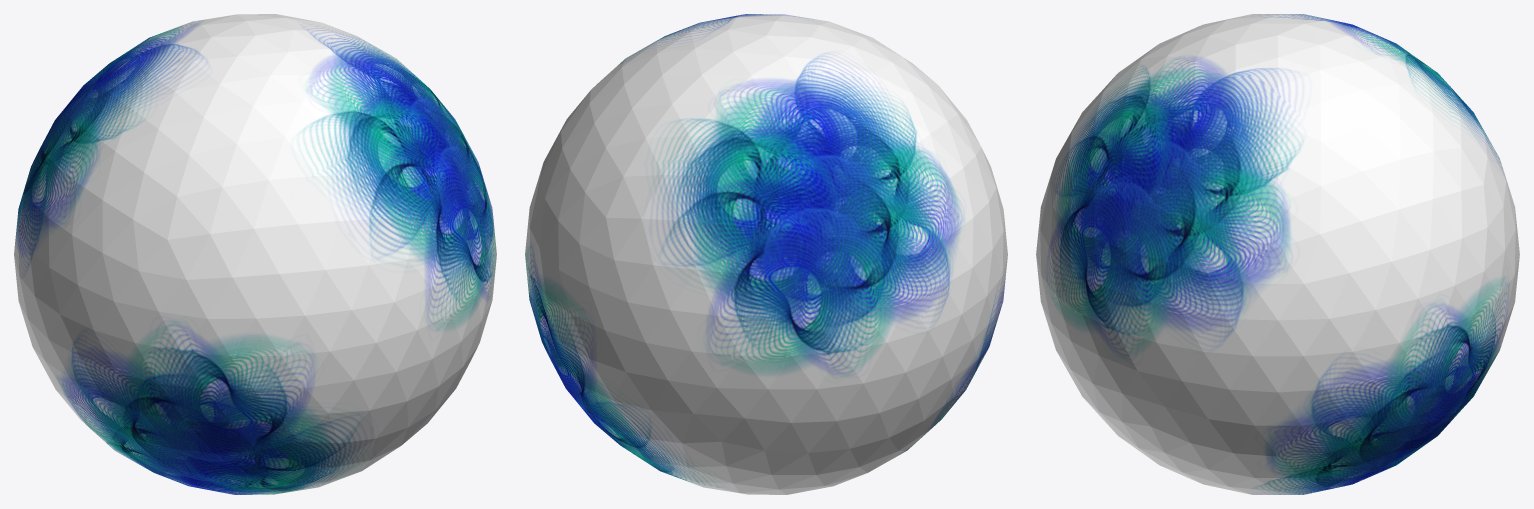
Rendered from ball_s.obj.
The picture shows the model from 3 angles, left to right: view 1: azimuth 30°, elevation 25°; view 2: azimuth 150°, elevation 25°; view 3: azimuth 270°, elevation 25°; orthographic projection.
Parts seen in each view (by area): view 1: Group15234; view 2: Group15234; view 3: Group15234.
Boxes of the visible parts, x1=… form: Group15234: x1=14, y1=14, x2=496, y2=494; Group15234: x1=525, y1=14, x2=1007, y2=494; Group15234: x1=1036, y1=14, x2=1519, y2=494.
Bounding box in the file's own units: 1.99 × 2 × 2.
1 material, 1 textured.
